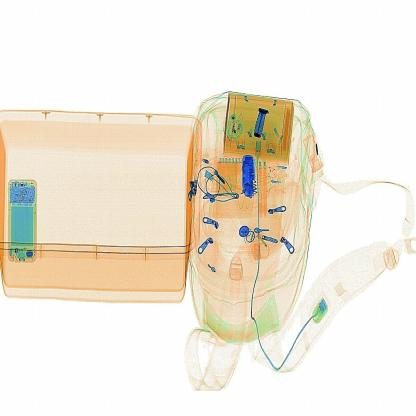scissors: (233, 144, 269, 216)
